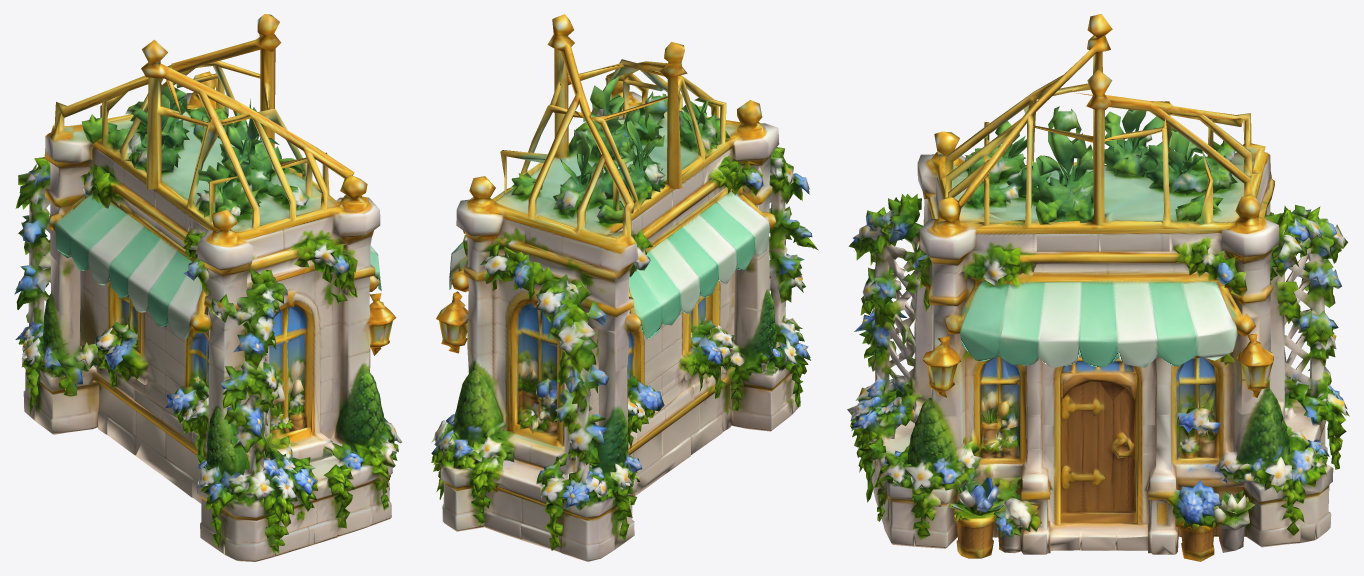
The model's file is HaloShop_Flower_HD_src.glb.
3 renders of one model, left to right at view 1: azimuth 30°, elevation 25°; view 2: azimuth 150°, elevation 25°; view 3: azimuth 270°, elevation 25°, orthographic. The views are drawn at different scales.
Visible parts, largest first — view 1: tripo_node_0d3d8027-7a12-4439-b3be-d42b01cea6e2; view 2: tripo_node_0d3d8027-7a12-4439-b3be-d42b01cea6e2; view 3: tripo_node_0d3d8027-7a12-4439-b3be-d42b01cea6e2.
Boxes of the visible parts, x1,y1,x2,y2 form: tripo_node_0d3d8027-7a12-4439-b3be-d42b01cea6e2: (14, 14, 401, 561); tripo_node_0d3d8027-7a12-4439-b3be-d42b01cea6e2: (431, 14, 818, 561); tripo_node_0d3d8027-7a12-4439-b3be-d42b01cea6e2: (847, 14, 1349, 561).
Size of the model in its own units: 0.5371 by 0.9828 by 0.9706.
1 material, 1 textured.
